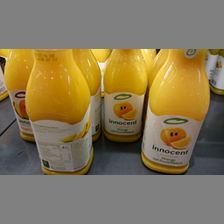juice: (24, 49, 94, 175), (140, 49, 210, 173), (101, 49, 149, 142)
